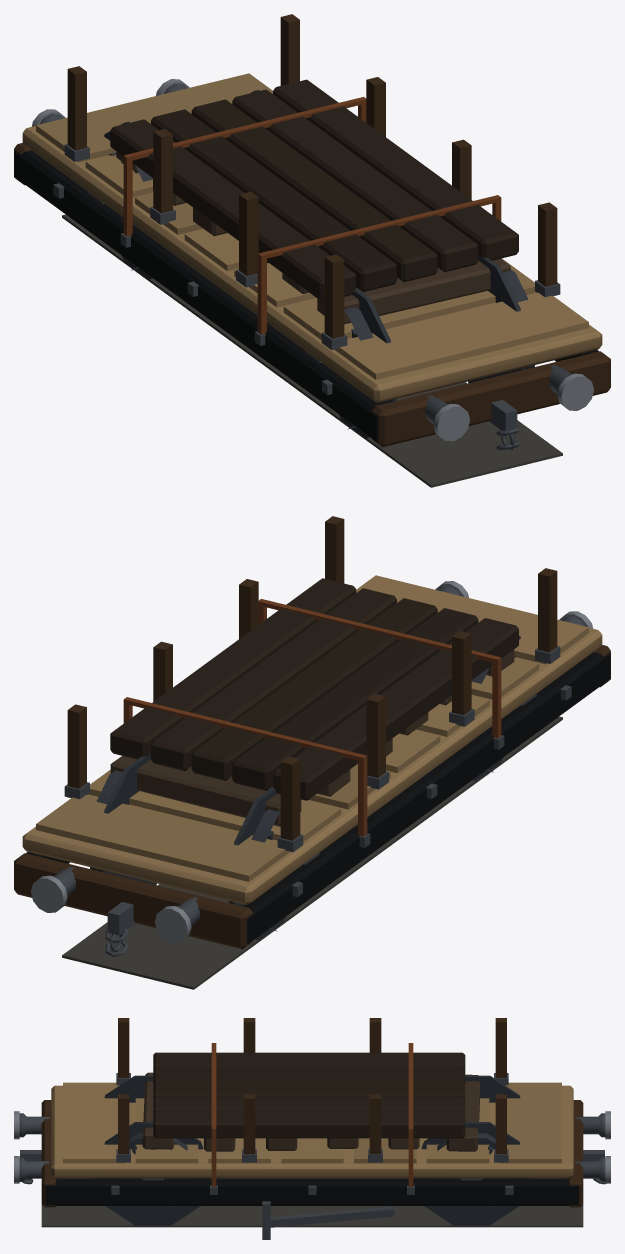
File: flatbed-wagon.glb
3 views of the same model, one above another, from view 1: azimuth 30°, elevation 25°; view 2: azimuth 150°, elevation 25°; view 3: azimuth 270°, elevation 25° (orthographic). The views are drawn at different scales.
Visible parts, largest first — view 1: flatbed_wagon; view 2: flatbed_wagon; view 3: flatbed_wagon.
Part boxes in pixels (<box>): flatbed_wagon: <box>14,14,610,487</box>; flatbed_wagon: <box>14,516,610,989</box>; flatbed_wagon: <box>14,1018,610,1239</box>.
Size of the model in its own units: 1.27 by 0.978 by 3.63.
